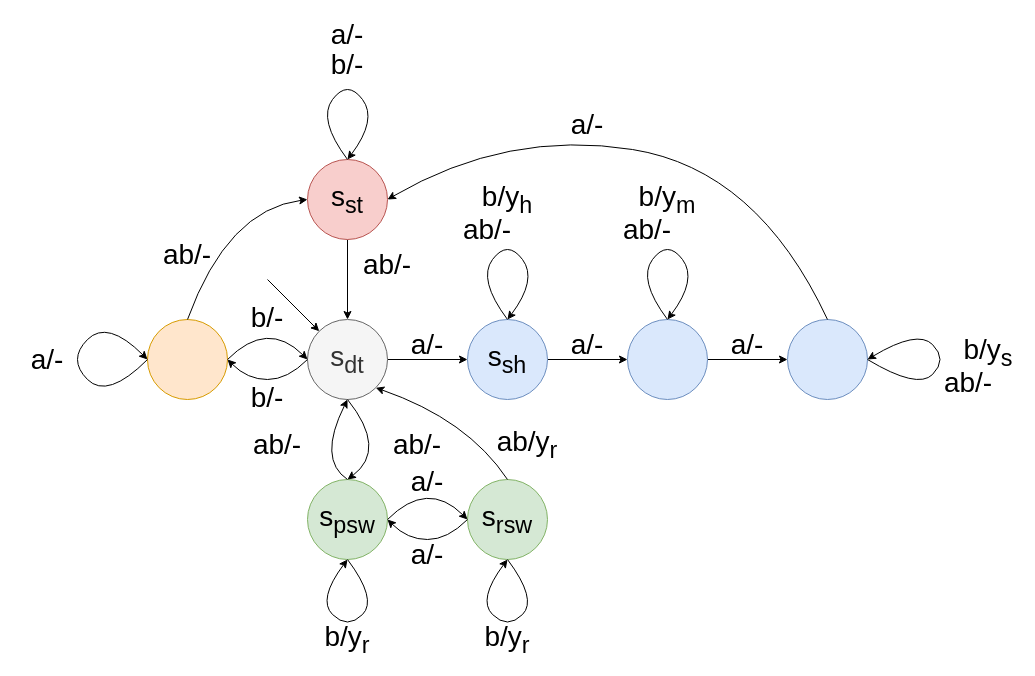
Some shapes in this 1035 by 676 pixel diagram are drawn without their labels. The shapes that lost their labels are listed below. From the top down, each one's box as (x1, y1, x2, y2) in pixels, then its label:
(146, 318, 228, 400): s do
(626, 318, 708, 400): s sm
(786, 318, 868, 400): s ss
